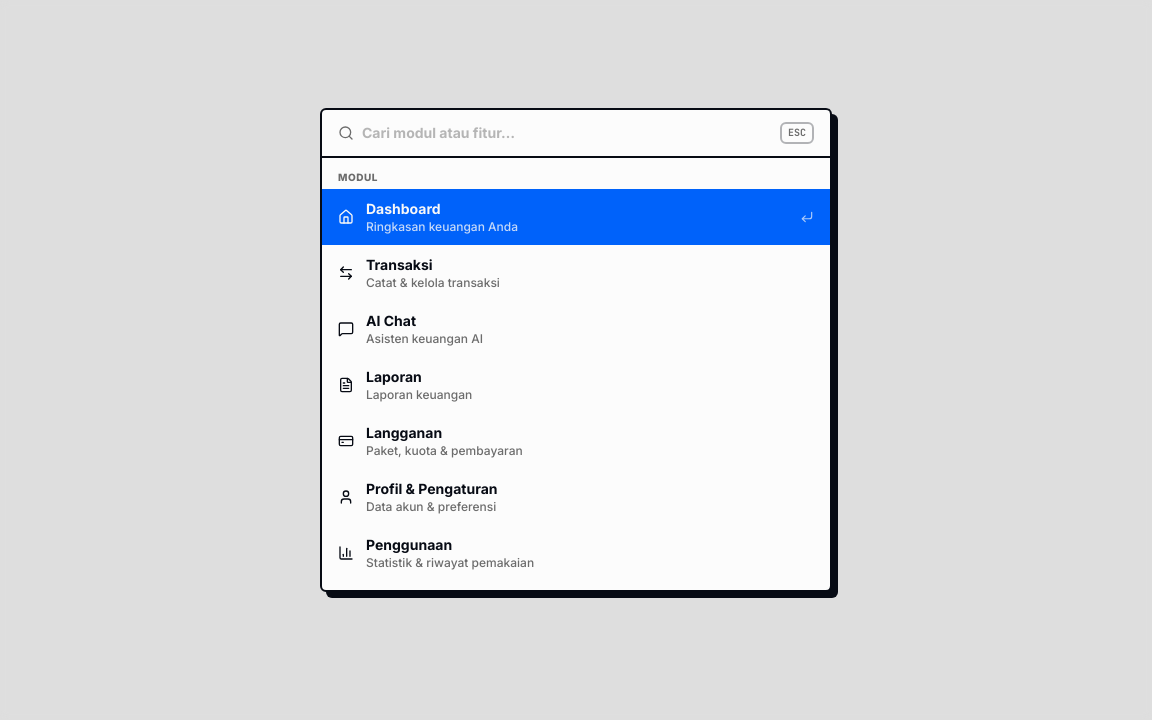
Test: SearchCommand › shows an empty state for a query with no matches
In the field named "Kata kunci pencarian": {"x": 567, "y": 133} [362,123,772,143], type "zzzznope"
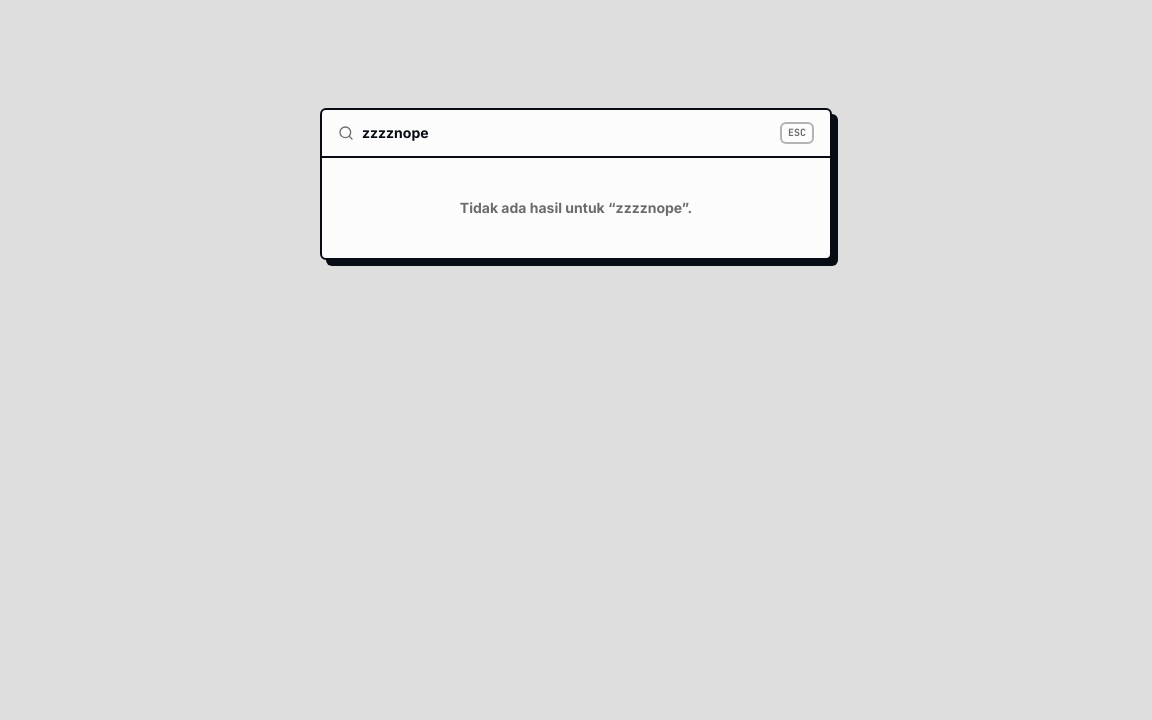
Result: the text "Tidak ada hasil untuk “zzzznope”." is shown at [460,199,692,216]
